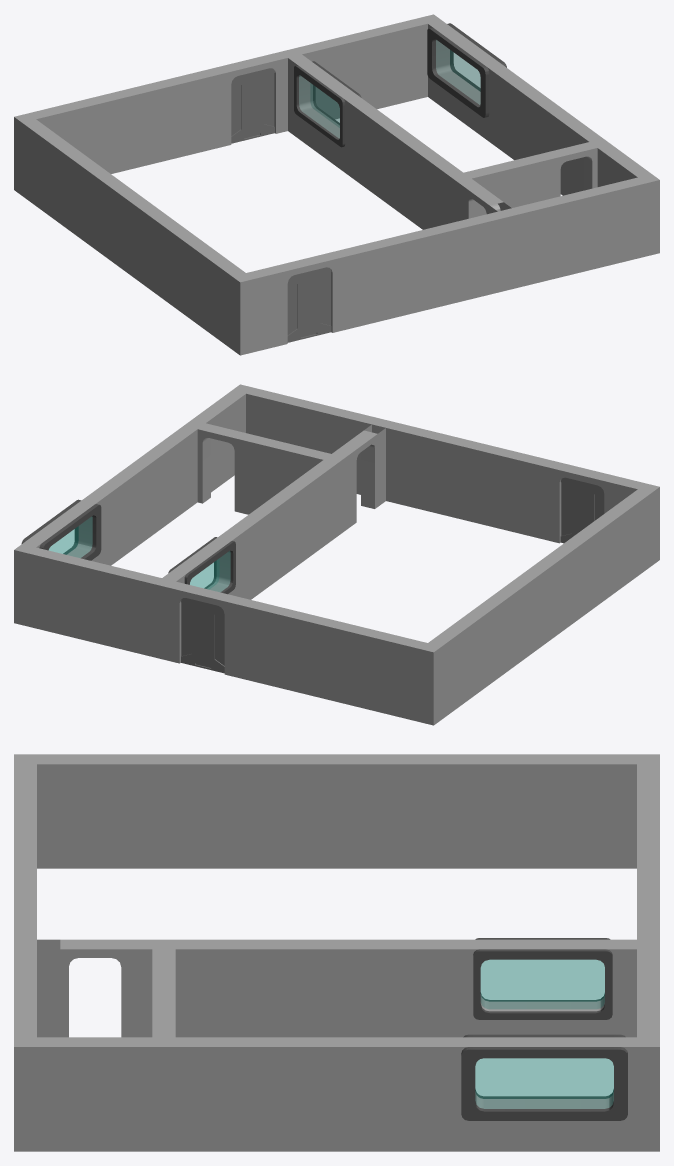
File: geo_FINALroom_ver2.fbx
3 views of the same model, one above another, from view 1: azimuth 30°, elevation 25°; view 2: azimuth 150°, elevation 25°; view 3: azimuth 270°, elevation 25° (orthographic). The views are drawn at different scales.
Parts seen in each view (by area): view 1: geo_room1; view 2: geo_room1; view 3: geo_room1.
Part boxes in pixels (bbox=[...]): geo_room1: bbox=[14, 14, 659, 355]; geo_room1: bbox=[14, 384, 659, 725]; geo_room1: bbox=[14, 754, 659, 1151].
Size of the model in its own units: 1514 by 250 by 1400.
